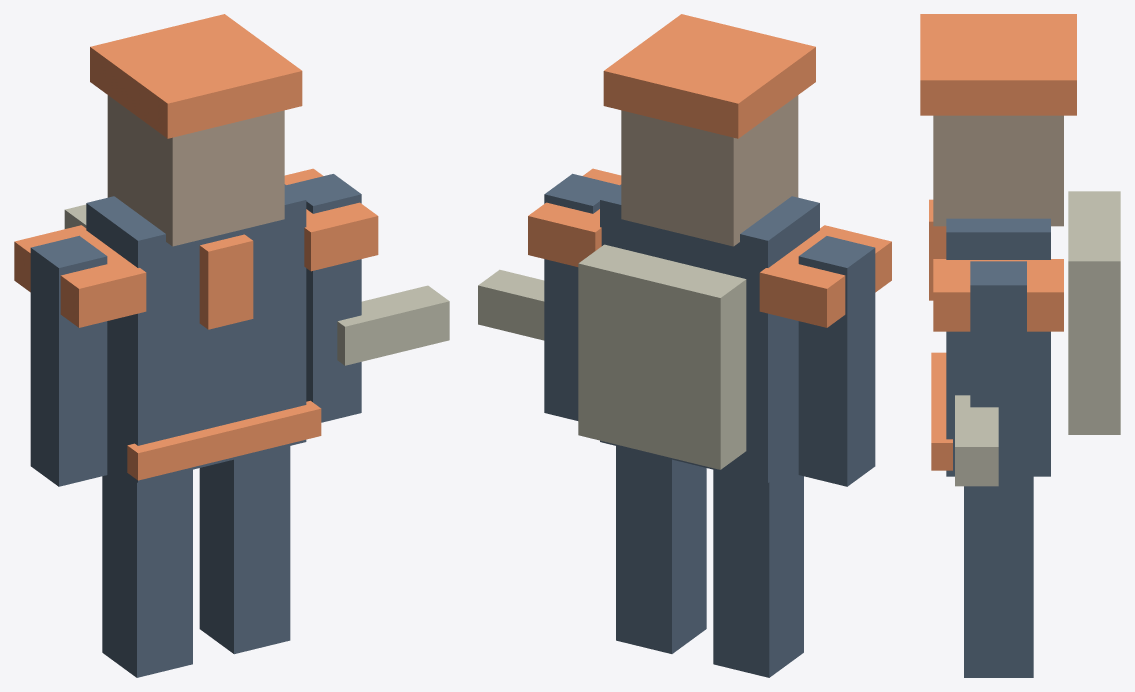
The model's file is 01_zerin_gantryn_tamer_under_central.glb.
The picture shows the model from 3 angles, left to right: view 1: azimuth 30°, elevation 25°; view 2: azimuth 150°, elevation 25°; view 3: azimuth 270°, elevation 25°; orthographic projection.
Visible parts, largest first — view 1: Zerin Gantryn, Tamer under Central; view 2: Zerin Gantryn, Tamer under Central; view 3: Zerin Gantryn, Tamer under Central.
Part boxes in pixels (x1,y1,x2,y2): Zerin Gantryn, Tamer under Central: (14, 14, 449, 677); Zerin Gantryn, Tamer under Central: (478, 14, 891, 677); Zerin Gantryn, Tamer under Central: (920, 14, 1120, 677).
Bounding box in the file's own units: 1.1 × 1.62 × 0.4956.
